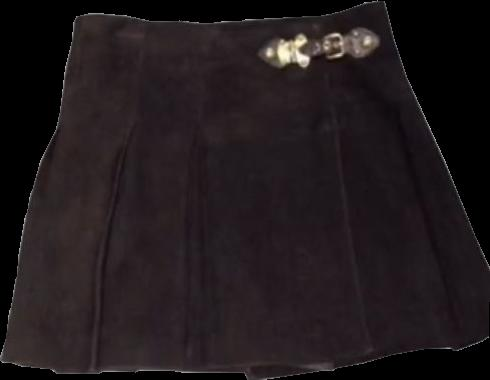Hemline: (0, 335, 489, 374)
Waistline: (75, 1, 382, 26)
